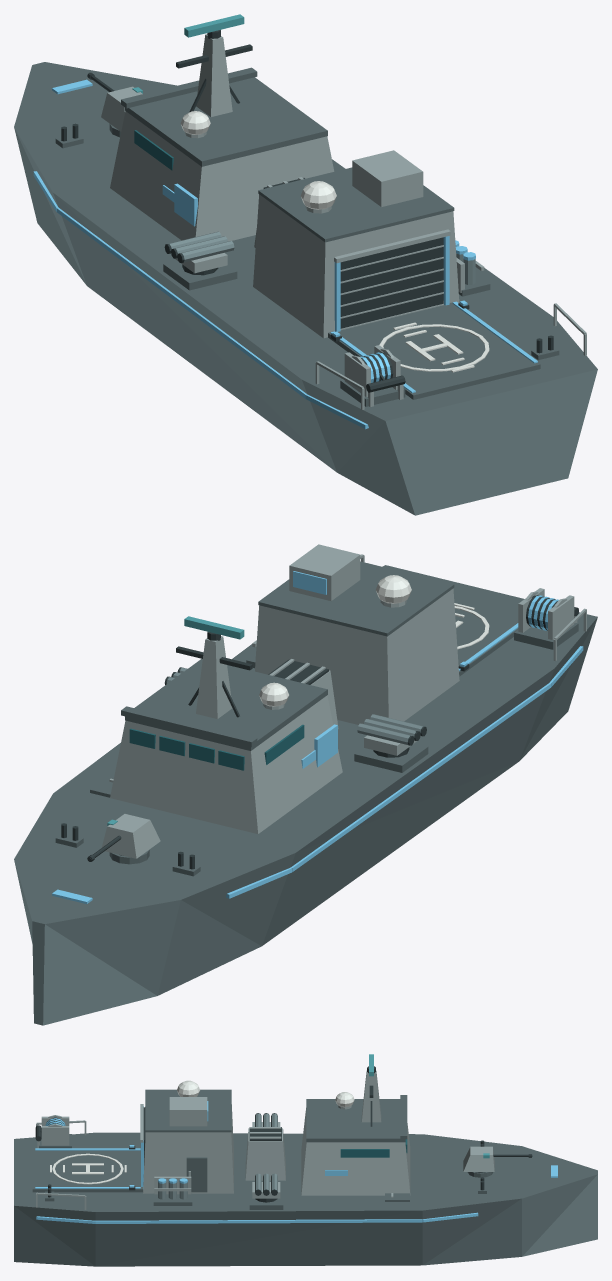
Rendered from ESC_ASW_T3.fbx.
The picture shows the model from 3 angles, top to bottom: view 1: azimuth 30°, elevation 25°; view 2: azimuth 150°, elevation 25°; view 3: azimuth 270°, elevation 25°; orthographic projection. The views are drawn at different scales.
Visible parts, largest first — view 1: ContinuousHull.007, Deckhouse.007, HelicopterHangar.001, HelicopterDeck, Roof.007, AftFacingHangarDoor, HangarRoof, AcousticControlCabinet, NavMast.003, RoleHullStripe-1_1, BridgeBrow, TorpedoFoot_P (+7 smaller); view 2: ContinuousHull.007, Deckhouse.007, HelicopterHangar.001, Roof.007, HangarRoof, HelicopterDeck, AcousticControlCabinet, NavMast.003, PrimaryGunCupola.007, RoleHullStripe-1_1, BridgeBrow, TorpedoFoot_P (+6 smaller); view 3: ContinuousHull.007, Deckhouse.007, HelicopterHangar.001, HelicopterDeck, Roof.007, HangarRoof, FunnelEnclosure.007, RoleHullStripe1_1, AcousticControlCabinet, NavMast.003, PrimaryGunCupola.007, HangarPersonnelHatch (+9 smaller).
Boxes of the visible parts, x1,y1,x2,y2 form: ContinuousHull.007: [14, 62, 597, 515]; Deckhouse.007: [110, 111, 334, 241]; HelicopterHangar.001: [253, 194, 459, 338]; HelicopterDeck: [328, 302, 540, 399]; Roof.007: [125, 77, 327, 166]; AftFacingHangarDoor: [340, 237, 443, 328]; HangarRoof: [258, 167, 454, 242]; AcousticControlCabinet: [352, 150, 423, 206]; NavMast.003: [196, 34, 232, 116]; RoleHullStripe-1_1: [56, 207, 306, 398]; BridgeBrow: [121, 67, 257, 108]; TorpedoFoot_P: [163, 261, 237, 290]; ContinuousHull.007: [14, 565, 597, 1025]; Deckhouse.007: [110, 695, 342, 833]; HelicopterHangar.001: [255, 588, 459, 724]; Roof.007: [125, 659, 327, 750]; HangarRoof: [258, 561, 454, 636]; HelicopterDeck: [453, 591, 518, 676]; AcousticControlCabinet: [289, 544, 360, 600]; NavMast.003: [196, 636, 232, 718]; PrimaryGunCupola.007: [101, 814, 160, 858]; RoleHullStripe-1_1: [291, 683, 550, 872]; BridgeBrow: [121, 706, 257, 747]; TorpedoFoot_P: [354, 743, 428, 772]; ContinuousHull.007: [14, 1132, 597, 1266]; Deckhouse.007: [301, 1108, 410, 1195]; HelicopterHangar.001: [143, 1104, 233, 1193]; HelicopterDeck: [32, 1149, 142, 1192]; Roof.007: [306, 1099, 405, 1142]; HangarRoof: [145, 1089, 231, 1132]; FunnelEnclosure.007: [245, 1128, 285, 1180]; RoleHullStripe1_1: [95, 1219, 422, 1223]; AcousticControlCabinet: [169, 1097, 207, 1126]; NavMast.003: [361, 1070, 381, 1122]; PrimaryGunCupola.007: [463, 1146, 494, 1171]; HangarPersonnelHatch: [186, 1157, 207, 1192].
Bounding box in the file's own units: 290 × 310 × 900.
